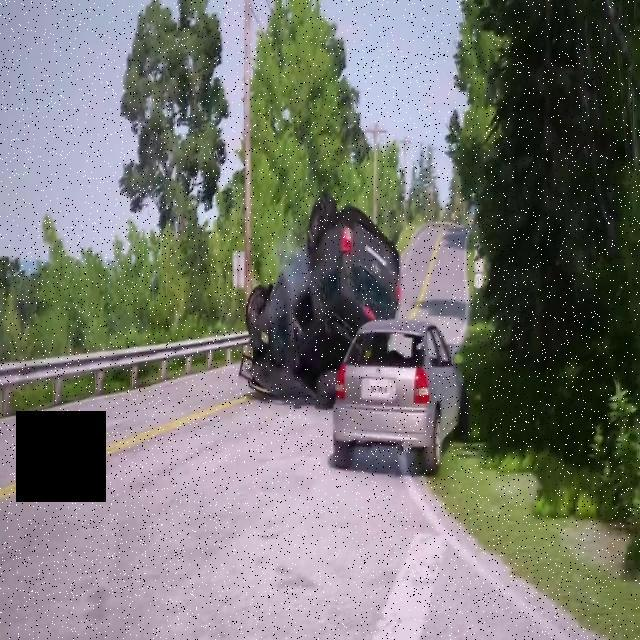severe: (238, 191, 406, 412)
